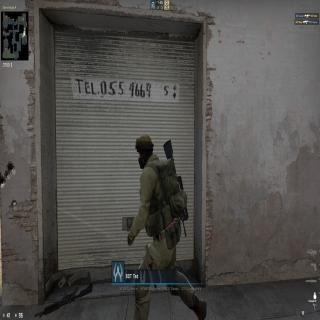CT-Head: (135, 129, 155, 172)
